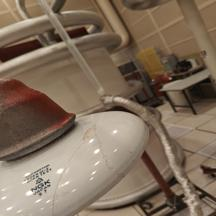insulator: (1, 64, 160, 216)
